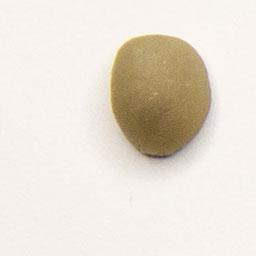premium: (107, 30, 214, 160)
